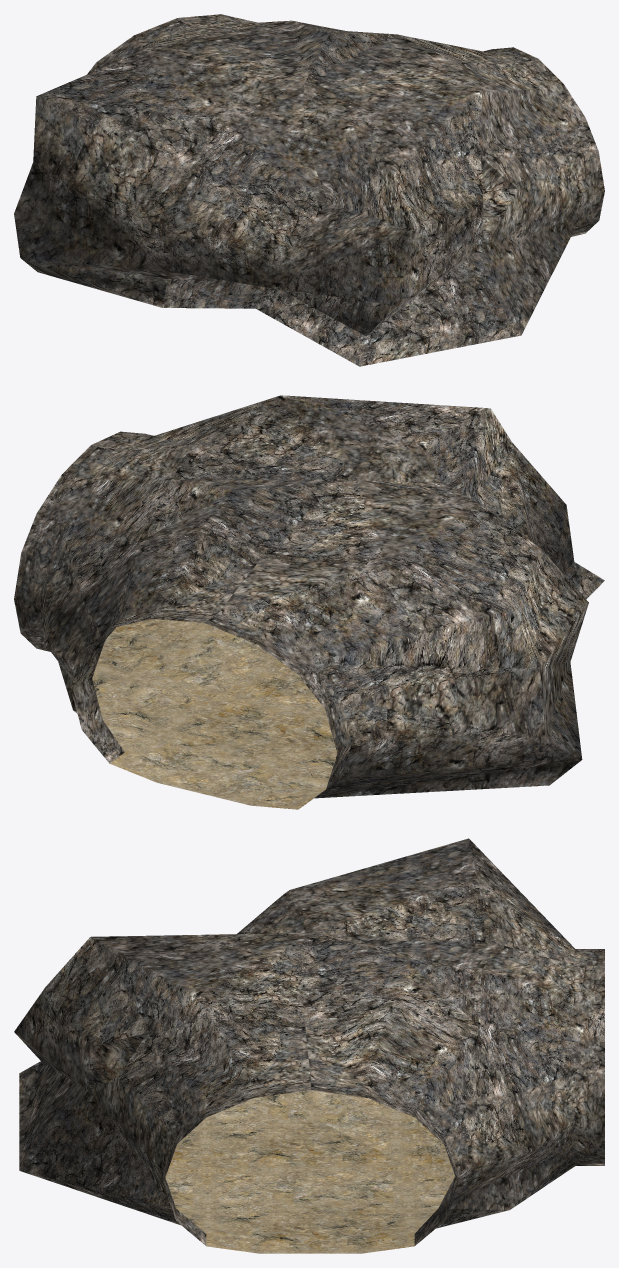
The model's file is pir_m_are_cav_elbow100.fbx.
3 views of the same model, one above another, from view 1: azimuth 30°, elevation 25°; view 2: azimuth 150°, elevation 25°; view 3: azimuth 270°, elevation 25° (orthographic). The views are drawn at different scales.
Visible parts, largest first — view 1: elbow100_wall; view 2: elbow100_wall, elbow100_floor; view 3: elbow100_wall, elbow100_floor.
Part boxes in pixels (x1,y1,x2,y2): elbow100_wall: (14, 14, 604, 366); elbow100_wall: (14, 395, 604, 798); elbow100_floor: (92, 618, 337, 809); elbow100_wall: (14, 838, 604, 1245); elbow100_floor: (165, 1090, 454, 1253).
Size of the model in its own units: 10257 by 3801 by 10035.
Materials: 2 (2 with a texture image).
